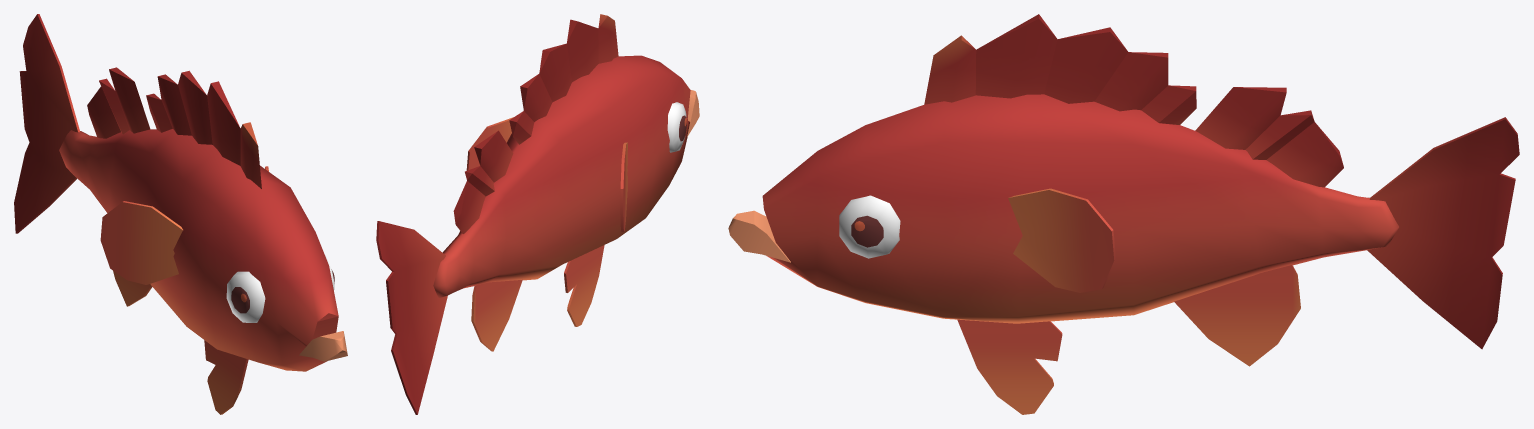
3 renders of one model, left to right at view 1: azimuth 30°, elevation 25°; view 2: azimuth 150°, elevation 25°; view 3: azimuth 270°, elevation 25°, orthographic. The views are drawn at different scales.
Parts seen in each view (by area): view 1: Fish_Bocaccio; view 2: Fish_Bocaccio; view 3: Fish_Bocaccio.
Part boxes in pixels (left/top/right/bottom): Fish_Bocaccio: left=14, top=14, right=347, bottom=414; Fish_Bocaccio: left=376, top=14, right=699, bottom=414; Fish_Bocaccio: left=728, top=14, right=1519, bottom=414.
Size of the model in its own units: 21.03 by 39.54 by 71.26.
